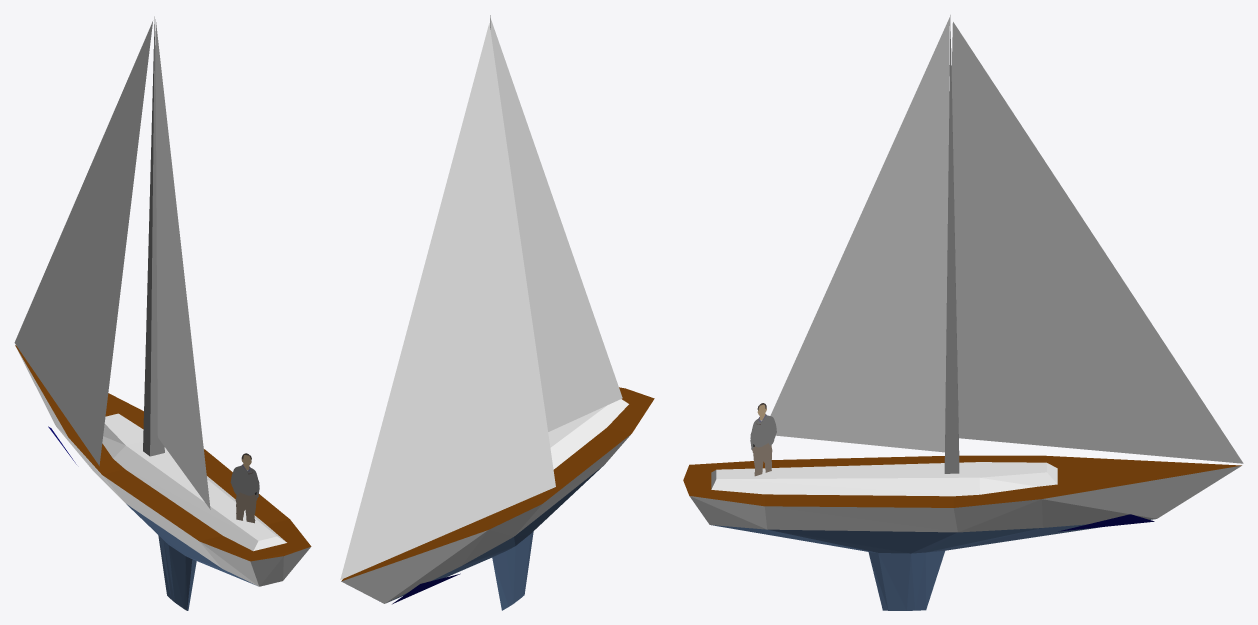
File: sail01.dae
3 renders of one model, left to right at view 1: azimuth 30°, elevation 25°; view 2: azimuth 150°, elevation 25°; view 3: azimuth 270°, elevation 25°, orthographic. The views are drawn at different scales.
Visible parts, largest first — view 1: o11 (×2), o13 (×2), o14, o12, o10, Derrick (×2); view 2: o11 (×2), o13 (×2), o14, o10; view 3: o11 (×2), o13 (×2), o14, o10, o12.
Part boxes in pixels (x1,y1,x2,y2): o11 (×2): [14, 19, 210, 509]; o13 (×2): [15, 345, 311, 561]; o14: [15, 346, 310, 586]; o12: [143, 16, 164, 456]; o10: [126, 504, 256, 610]; Derrick (×2): [230, 465, 259, 523]; o11 (×2): [340, 18, 622, 579]; o13 (×2): [341, 387, 654, 581]; o14: [341, 434, 630, 603]; o10: [387, 465, 603, 610]; o11 (×2): [770, 17, 1243, 463]; o13 (×2): [683, 455, 1241, 507]; o14: [689, 465, 1241, 532]; o10: [711, 519, 1155, 610]; o12: [944, 15, 959, 473].
Size of the model in its own units: 92.19 by 388 by 455.
